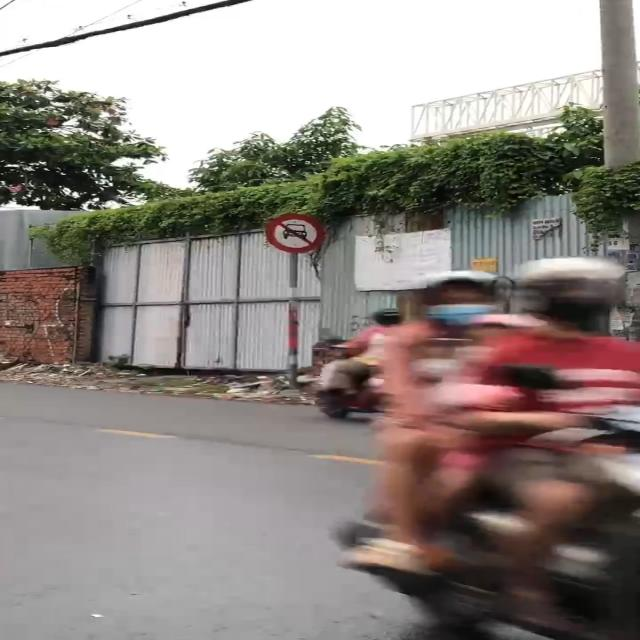Bien bao cam xe oto: (259, 211, 327, 256)
